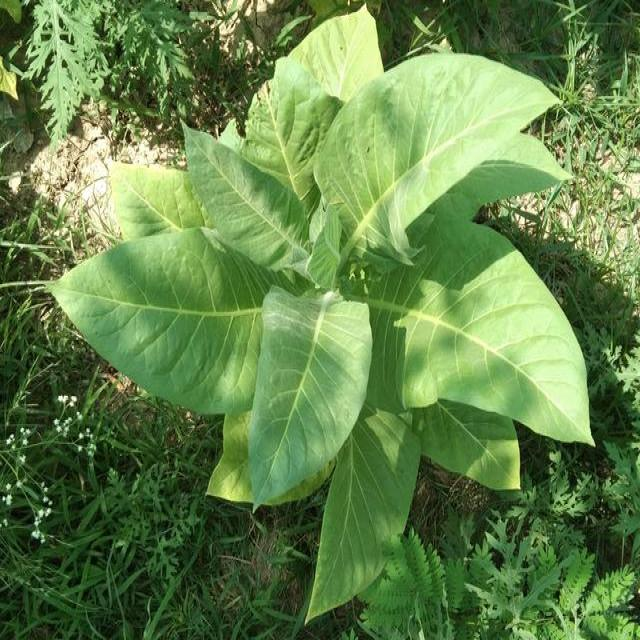crop: (67, 25, 590, 598)
